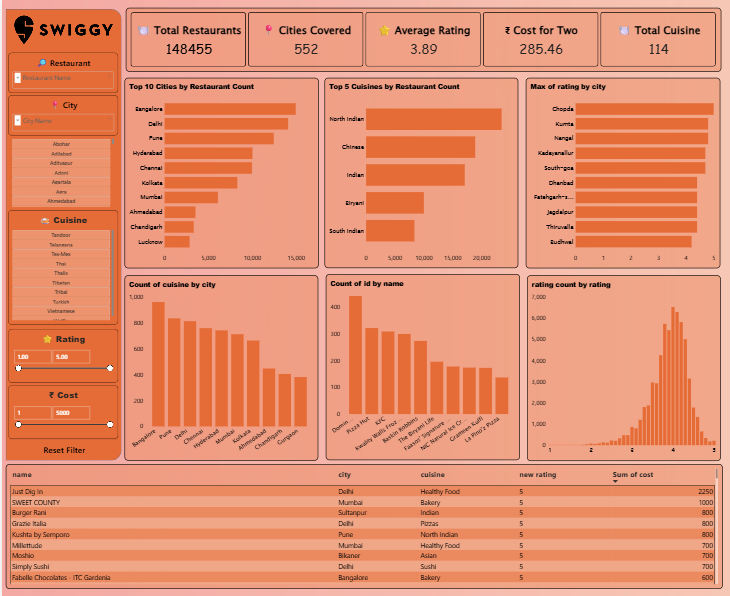

This screenshot's page, from the dashboard's own definition file:
{"tool":"powerbi","page":{"name":"SWIGGY RESTAURANT ANALYTICS","canvas":[2913,2400],"ordinal":0},"visuals":[{"type":"cardVisual","fields":{"Data":["swiggy_cleaned_for_powerbi.total","swiggy_cleaned_for_powerbi.city covered","swiggy_cleaned_for_powerbi.Avg Rating","swiggy_cleaned_for_powerbi.Avg Cost","Count(swiggy_cleaned_for_powerbi.primary_cuisine)"]},"box":[492.7,36.3,2382.4,255.9],"z":0},{"type":"barChart","title":"Top 10 Cities by Restaurant Count","fields":{"Category":["swiggy_cleaned_for_powerbi.city"],"Y":["CountNonNull(swiggy_cleaned_for_powerbi.name)"]},"box":[491.7,313.1,776.6,762.6],"z":1000},{"type":"columnChart","title":"rating count by rating","fields":{"Category":["swiggy_cleaned_for_powerbi.rating"],"Y":["CountNonNull(swiggy_cleaned_for_powerbi.rating_count)"]},"box":[2100,1103.1,775,742.9],"z":2000},{"type":"barChart","title":"Top 5 Cuisines by Restaurant Count","fields":{"Category":["swiggy_cleaned_for_powerbi.primary_cuisine"],"Y":["CountNonNull(swiggy_cleaned_for_powerbi.name)"]},"box":[1291.7,314.6,775,761.8],"z":3000},{"type":"columnChart","fields":{"Category":["swiggy_cleaned_for_powerbi.name"],"Y":["CountNonNull(swiggy_cleaned_for_powerbi.id)"]},"box":[1294.3,1101.7,776.6,744.5],"z":4000},{"type":"tableEx","fields":{"Values":["swiggy_cleaned_for_powerbi.name","swiggy_cleaned_for_powerbi.city","swiggy_cleaned_for_powerbi.primary_cuisine","swiggy_cleaned_for_powerbi.new rating","Sum(swiggy_cleaned_for_powerbi.cost)"]},"box":[16.6,1861.3,2868.2,500.1],"z":5000},{"type":"shape","box":[14,40.1,463.6,1806.1],"z":6000},{"type":"textSlicer","fields":{"Values":["swiggy_cleaned_for_powerbi.name"]},"box":[26.1,216.7,439.5,160.5],"z":7000},{"type":"textSlicer","fields":{"Values":["swiggy_cleaned_for_powerbi.city"]},"box":[26.1,383.3,439.5,160.5],"z":8000},{"type":"advancedSlicerVisual","fields":{"Values":["swiggy_cleaned_for_powerbi.city"]},"box":[26.1,543.8,439.5,303],"z":9000},{"type":"advancedSlicerVisual","title":"🍛 Cuisine","fields":{"Values":["swiggy_cleaned_for_powerbi.primary_cuisine"]},"box":[26.1,846.8,439.5,457.5],"z":10000},{"type":"slicer","title":"⭐ Rating","fields":{"Values":["swiggy_cleaned_for_powerbi.rating"]},"box":[26.1,1320.4,439.5,214.7],"z":11000},{"type":"slicer","title":"₹ Cost","fields":{"Values":["swiggy_cleaned_for_powerbi.cost_for_two"]},"box":[26.1,1547.2,439.5,214.7],"z":12000},{"type":"image","box":[0,36.1,491.7,176.6],"z":13000},{"type":"actionButton","box":[28.1,1761.9,439.5,84.3],"z":14000},{"type":"barChart","fields":{"Category":["swiggy_cleaned_for_powerbi.city"],"Y":["Max(swiggy_cleaned_for_powerbi.rating)"]},"box":[2093.6,315.2,778.3,762.2],"z":15000},{"type":"columnChart","fields":{"Category":["swiggy_cleaned_for_powerbi.city"],"Y":["Count(swiggy_cleaned_for_powerbi.cuisine)"]},"box":[490.2,1102.9,775,741.9],"z":15001}]}

Visuals, with their boxes in screenshot pixels (x1, y1, x2, y2), scaled from the page's 2913x2400 canvas onto the 730x596 screenshot:
cardVisual - swiggy_cleaned_for_powerbi.total x swiggy_cleaned_for_powerbi.city covered: bbox=[123, 9, 721, 73]
"Top 10 Cities by Restaurant Count" barChart: bbox=[123, 78, 318, 267]
"rating count by rating" columnChart: bbox=[526, 274, 720, 458]
"Top 5 Cuisines by Restaurant Count" barChart: bbox=[324, 78, 518, 267]
columnChart - swiggy_cleaned_for_powerbi.name x CountNonNull(swiggy_cleaned_for_powerbi.id): bbox=[324, 274, 519, 458]
tableEx - swiggy_cleaned_for_powerbi.name x swiggy_cleaned_for_powerbi.city: bbox=[4, 462, 723, 586]
shape: bbox=[4, 10, 120, 458]
textSlicer - swiggy_cleaned_for_powerbi.name: bbox=[7, 54, 117, 94]
textSlicer - swiggy_cleaned_for_powerbi.city: bbox=[7, 95, 117, 135]
advancedSlicerVisual - swiggy_cleaned_for_powerbi.city: bbox=[7, 135, 117, 210]
"🍛 Cuisine" advancedSlicerVisual: bbox=[7, 210, 117, 324]
"⭐ Rating" slicer: bbox=[7, 328, 117, 381]
"₹ Cost" slicer: bbox=[7, 384, 117, 438]
image: bbox=[0, 9, 123, 53]
actionButton: bbox=[7, 438, 117, 458]
barChart - swiggy_cleaned_for_powerbi.city x Max(swiggy_cleaned_for_powerbi.rating): bbox=[525, 78, 720, 268]
columnChart - swiggy_cleaned_for_powerbi.city x Count(swiggy_cleaned_for_powerbi.cuisine): bbox=[123, 274, 317, 458]
